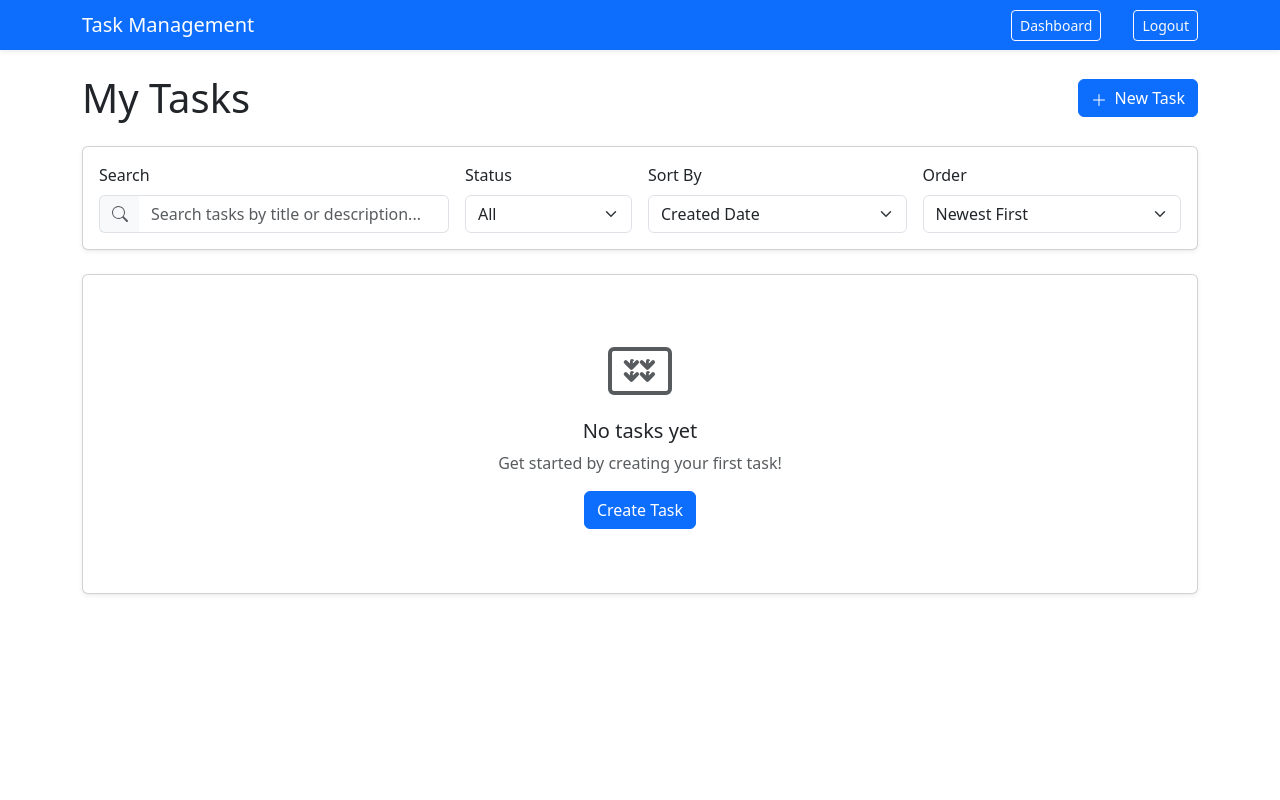
TasksPage › test_search_no_results - Shows "no results" message
The image size is (1280, 800).
// Search for something that doesn't exist
Type "nonexistent" into the search field with placeholder "Search tasks by title or description...". click: (294, 214)
box: 139,195 -> 449,233
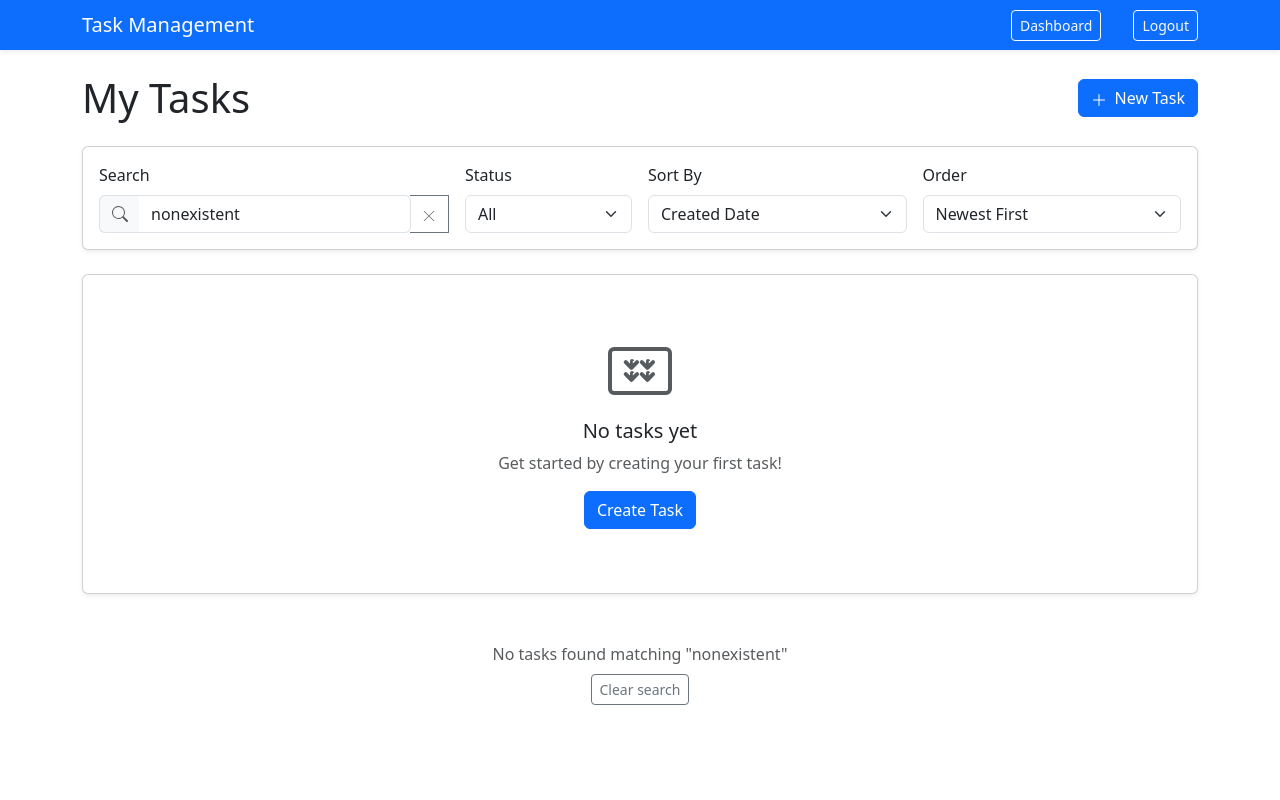
Check: the text "No tasks found matching \"nonexistent\"" is shown, box 493,643 -> 787,665
